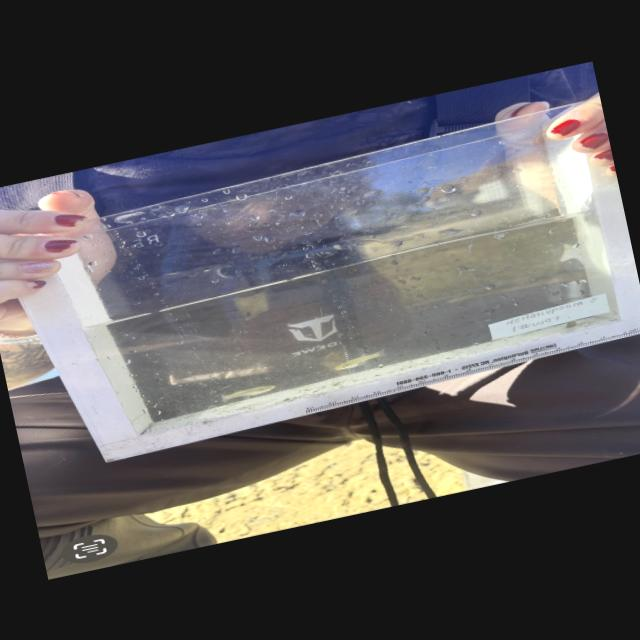Sivrisinek Baligi: (210, 380, 278, 406), (334, 348, 386, 373)
